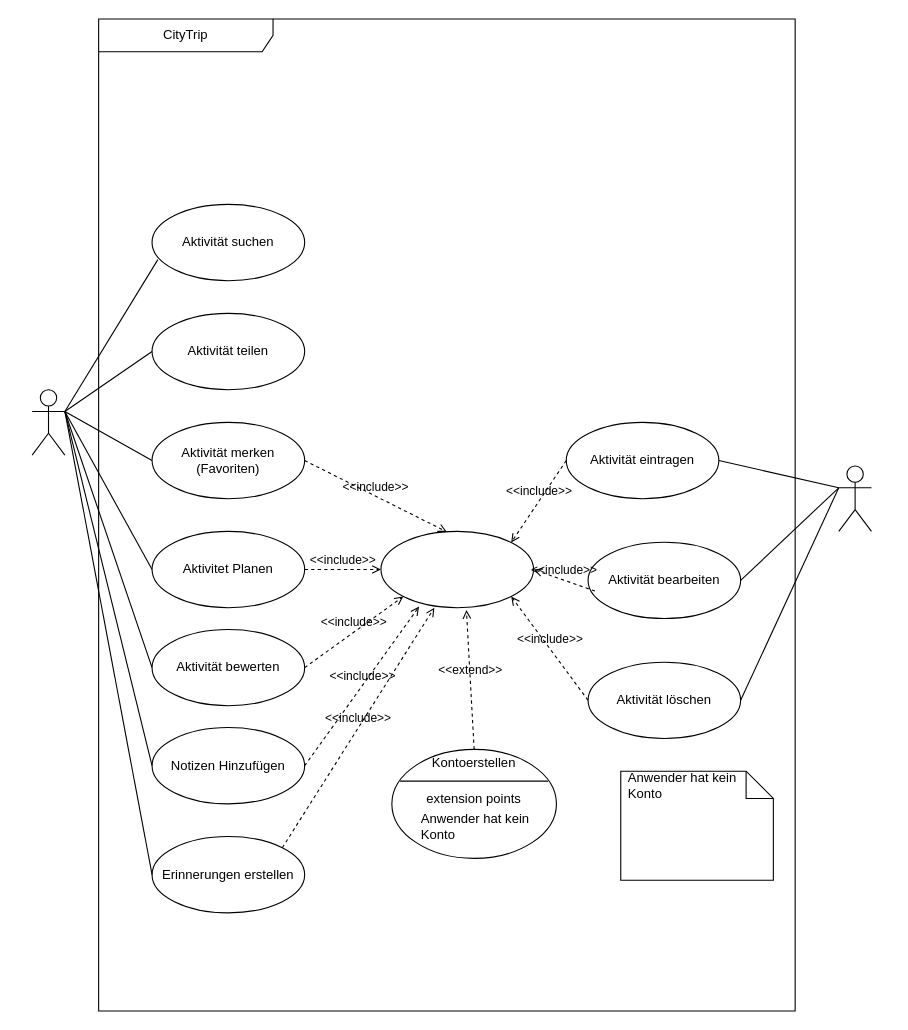
Image size: 908x1030. Some labels were removed from this diagram. Here are the shapes that lost their labels. From the top down, the box of each, then its label:
(31, 389, 65, 455): Anwender
(838, 465, 871, 531): Veranstalter
(380, 530, 534, 608): Benutzer anmelden
(620, 770, 773, 880): Anwender muss mit Angabe von Email und Passwort ein Konto erstellen
